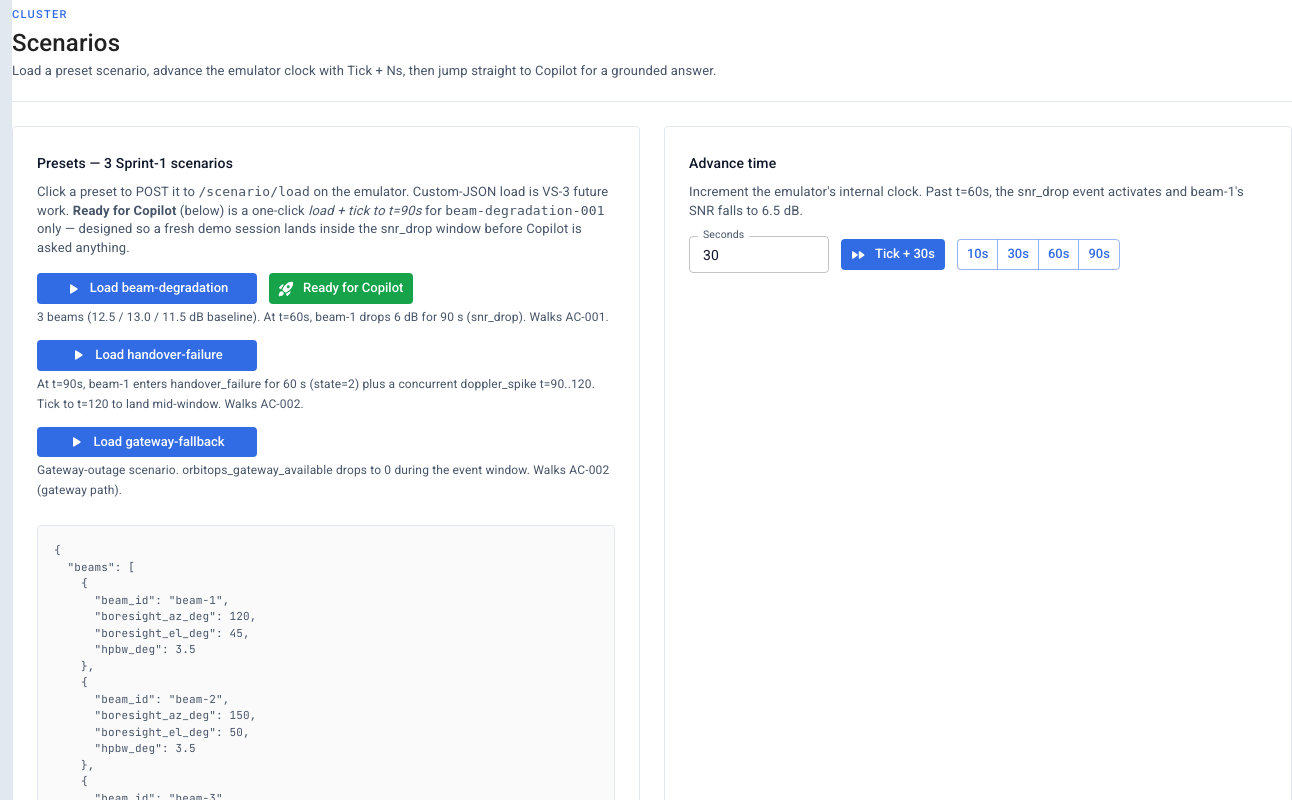
Scenarios — Ready for Copilot affordance › when tick returns NO active anomalies, alert is a warning that mentions INSUFFICIENT_EVIDENCE
Click the button "Ready for Copilot" at (341, 289), box [269,273,413,304]
(page scrolled)
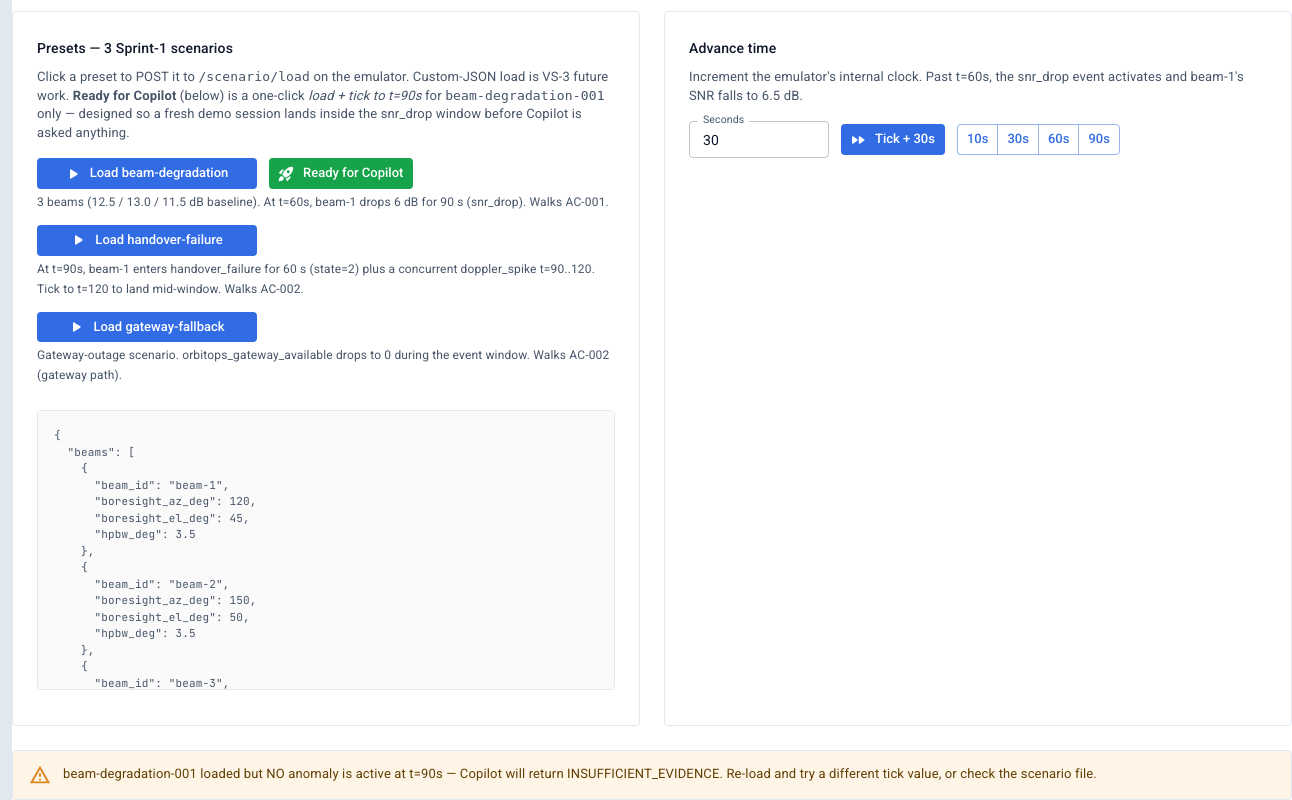
Expected: the message does not show "Ready for Copilot"
Now the message shows "INSUFFICIENT_EVIDENCE", box [63,766,1097,781]
